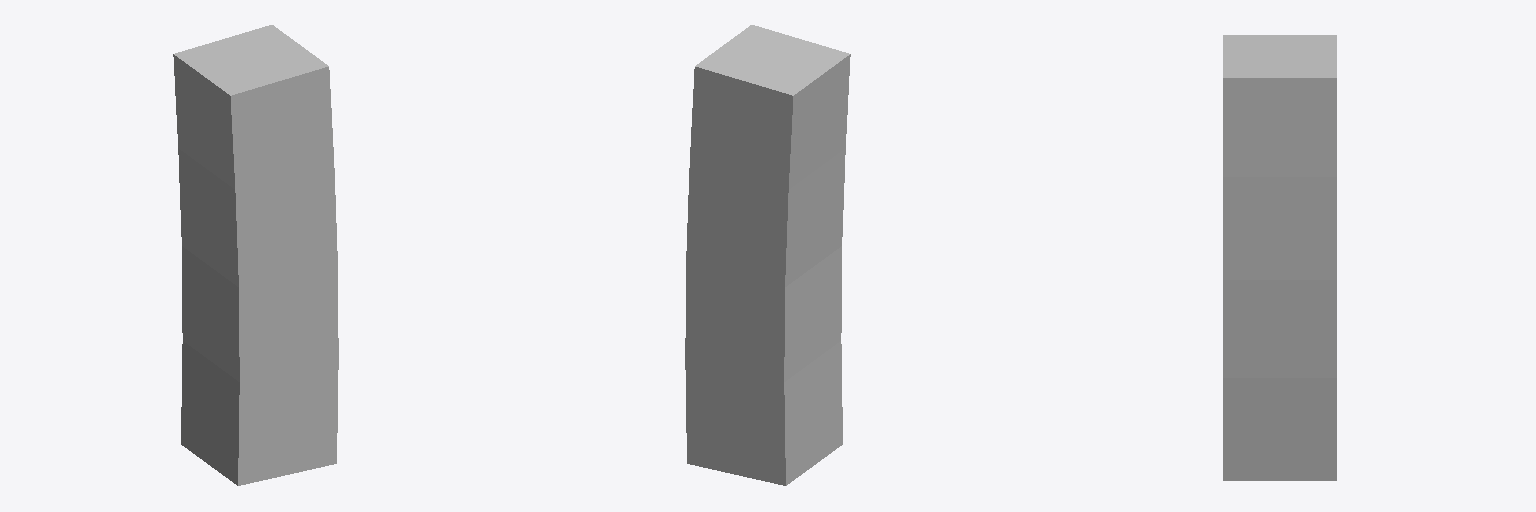
File: Animation_000078.obj
3 views of the same model, side by side, from view 1: azimuth 30°, elevation 25°; view 2: azimuth 150°, elevation 25°; view 3: azimuth 270°, elevation 25° (orthographic).
Visible parts, largest first — view 1: Cube; view 2: Cube; view 3: Cube.
Part boxes in pixels (x1,y1,x2,y2): Cube: (173, 25, 338, 485); Cube: (685, 25, 850, 485); Cube: (1223, 35, 1336, 480).
Bounding box in the file's own units: 1.46 × 5.13 × 1.33.